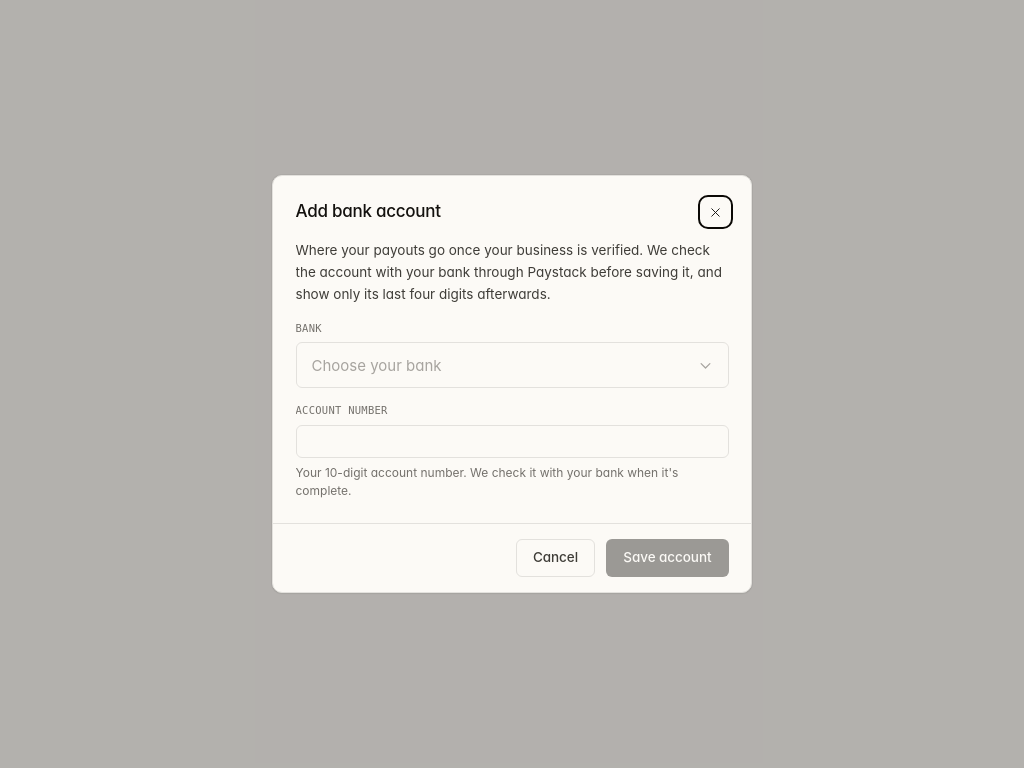
AddBankAccountModal › shows Paystack's message when there is no such account, and keeps Save off
The image size is (1024, 768).
Click the button "Choose your bank" at (377, 365), box [296,342,728,388]
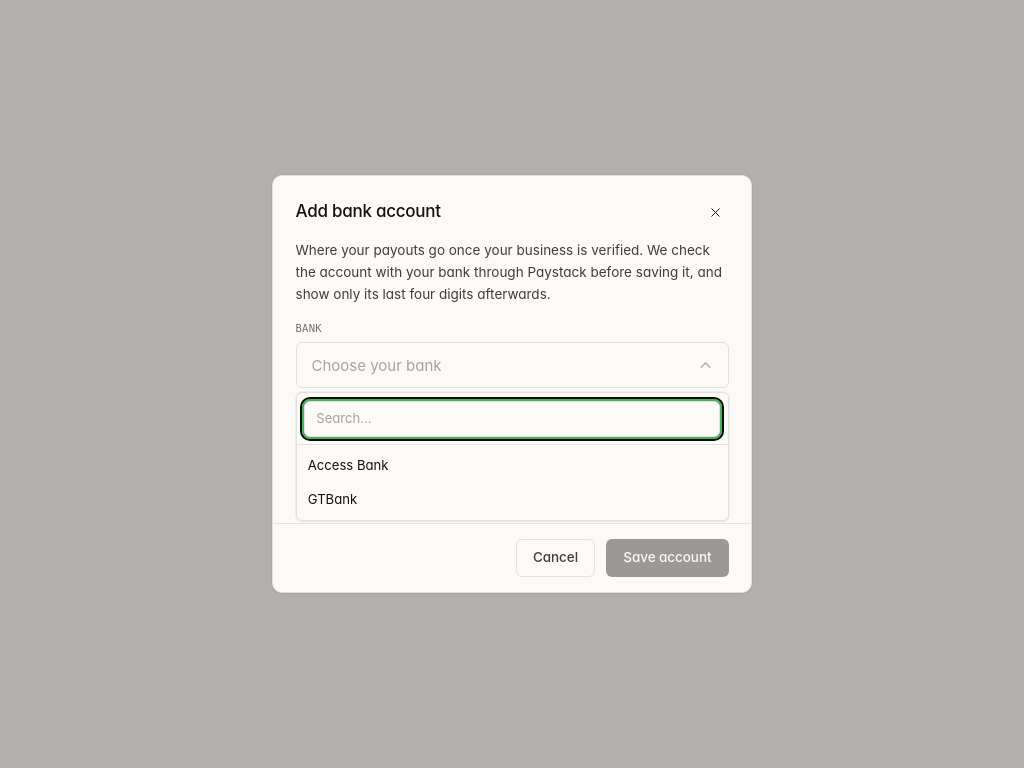
Press the mouse on the list item "GTBank" at (332, 499), box [308,491,357,507]
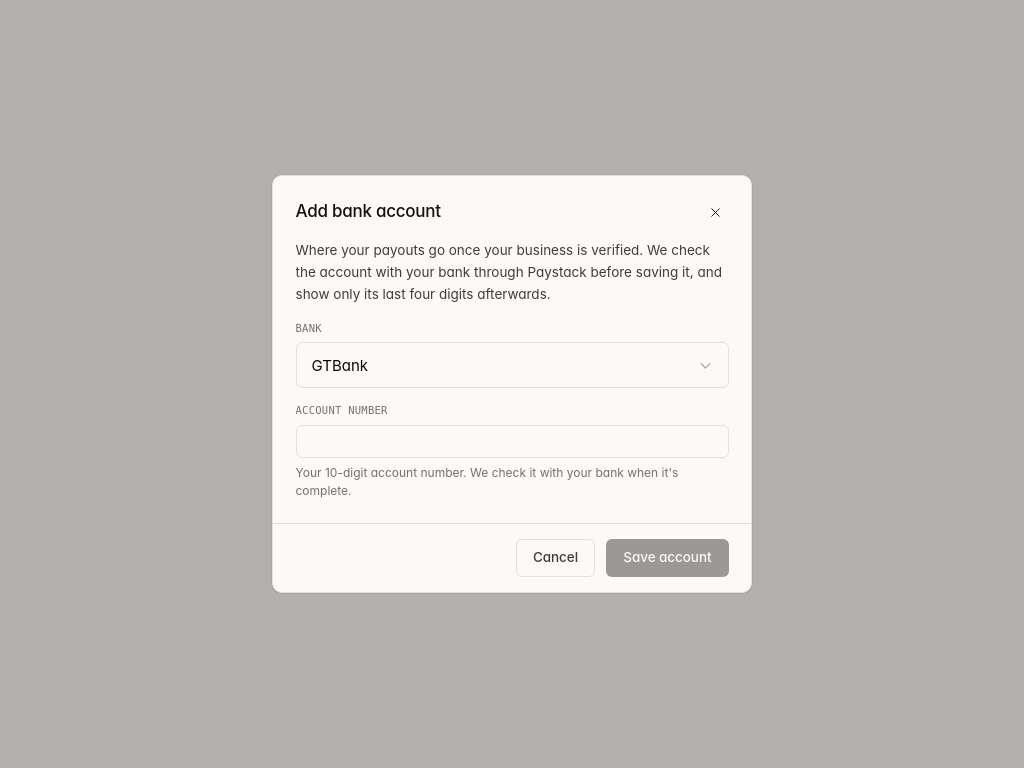
Type "0123456789" into the field labelled "Account number" at (512, 442), box [296,425,728,458]
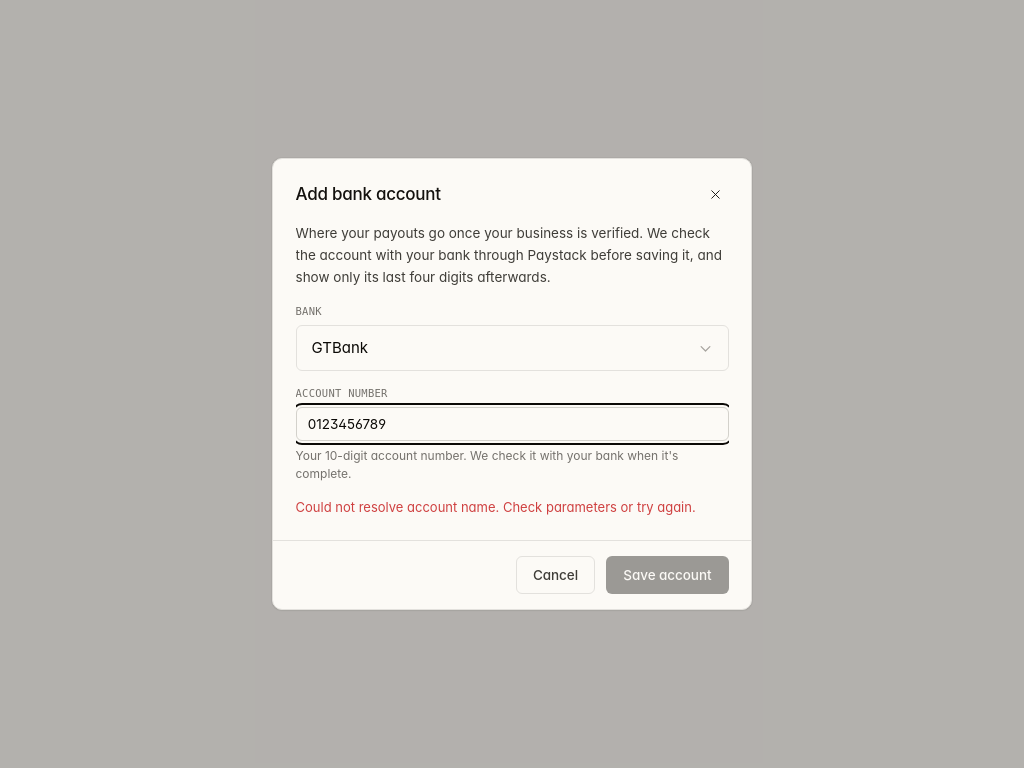
Expected: the button "Save account" is disabled, [606,556,728,594]
Result: the message shows "Could not resolve account name" at [296,499,696,515]
